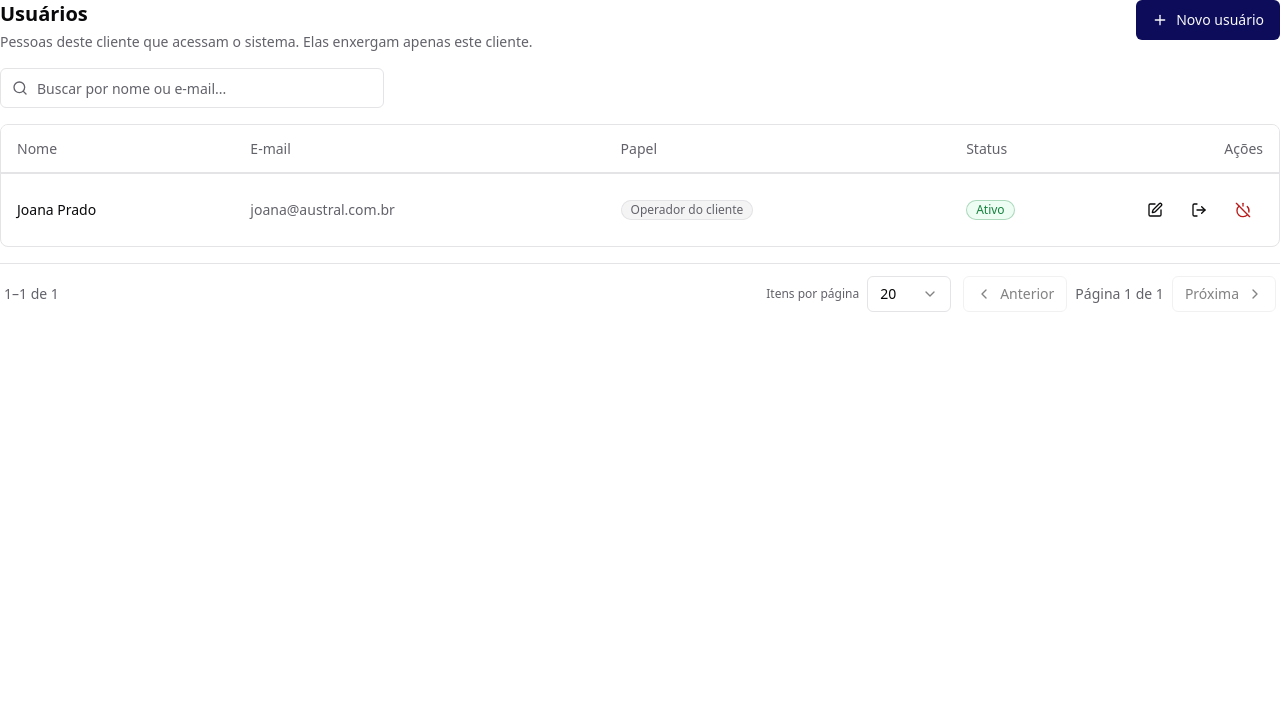
Test: ClientUsersScreen — gaveta de criação › Cancelar fica à ESQUERDA da ação primária no rodapé da gaveta
This screenshot has width=1280, height=720.
Click the button "Novo usuário": (1208,20) [1136, 0, 1279, 40]
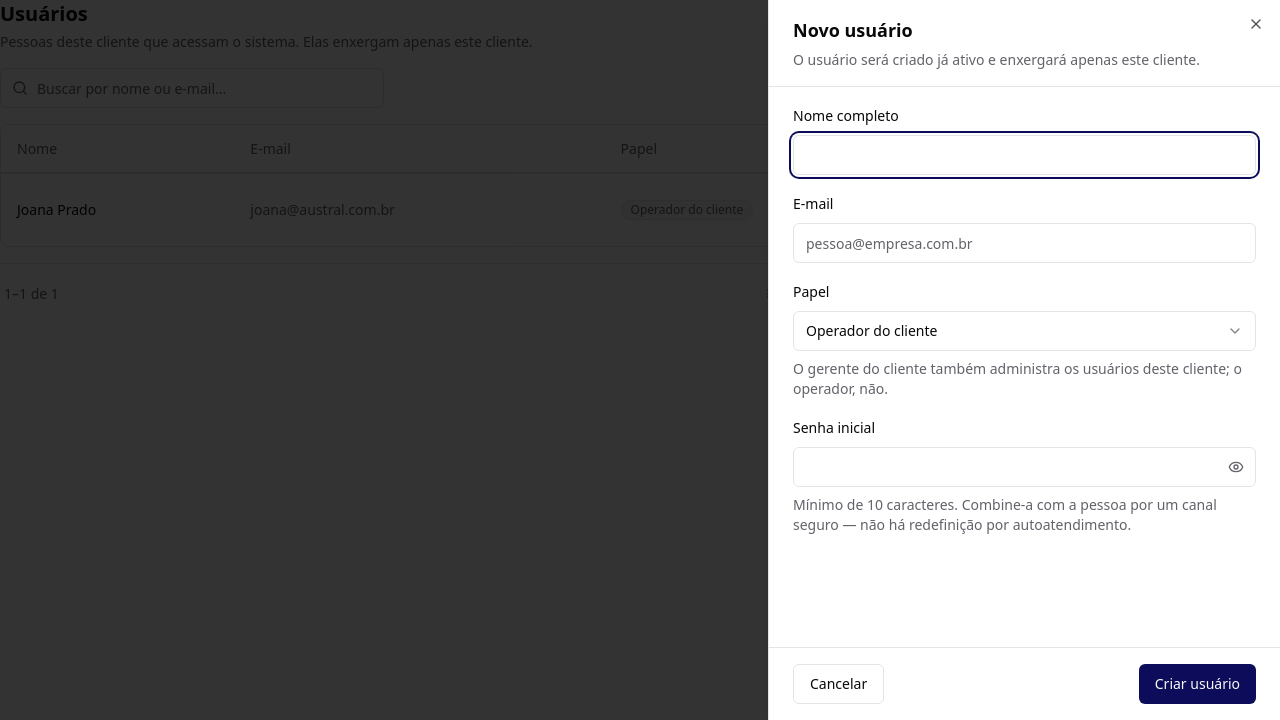
Check: the dialog is shown, box [768, 0, 1279, 719]
